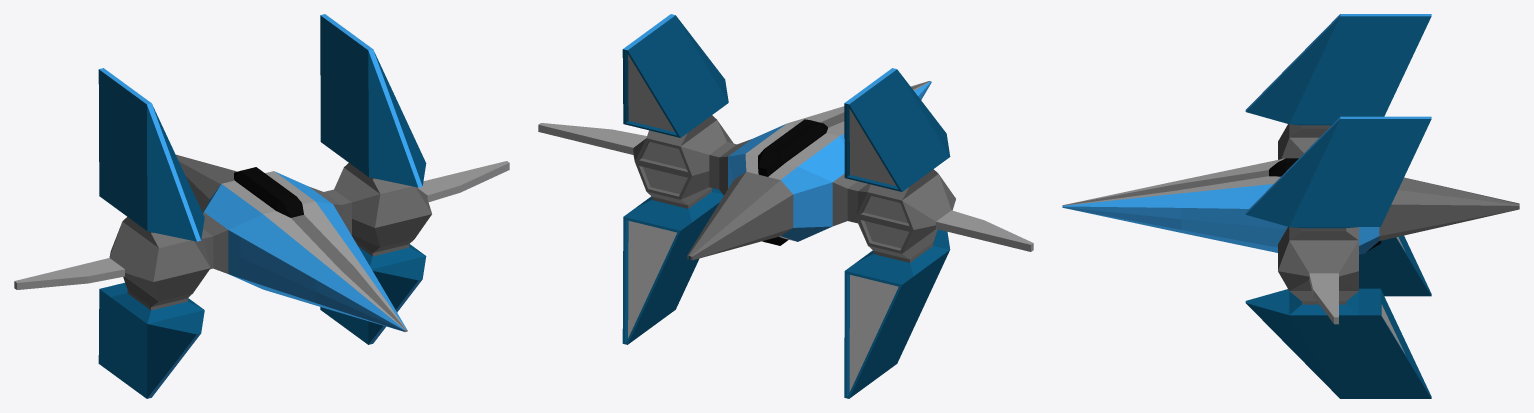
File: SpaceshipMastermindOfElysiumCorrectRot.fbx
3 renders of one model, left to right at view 1: azimuth 30°, elevation 25°; view 2: azimuth 150°, elevation 25°; view 3: azimuth 270°, elevation 25°, orthographic. The views are drawn at different scales.
Visible parts, largest first — view 1: Cube; view 2: Cube; view 3: Cube.
Boxes of the visible parts, x1,y1,x2,y2 form: Cube: (14,14,509,398); Cube: (538,14,1033,398); Cube: (1062,14,1519,398).
Bounding box in the file's own units: 1368 × 782 × 1157.
